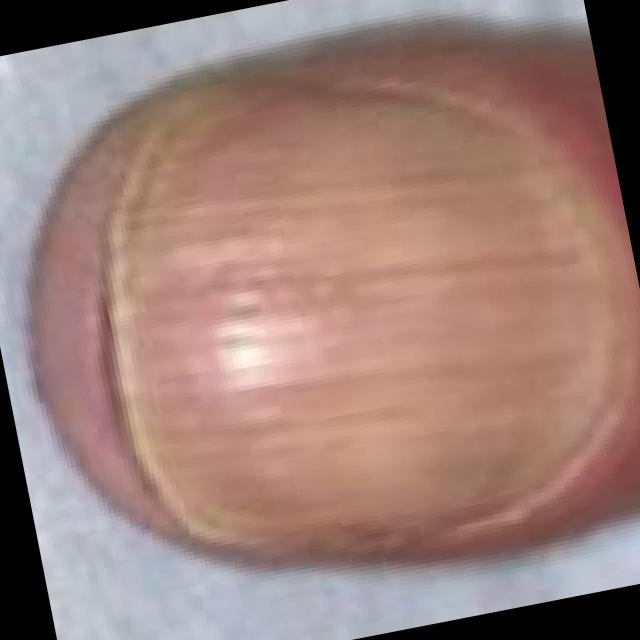Nail: (108, 86, 610, 552)
